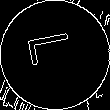L_E: (27, 35, 83, 75)
